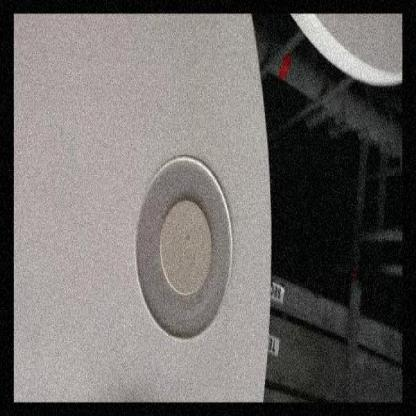light_off: (124, 120, 242, 360)
